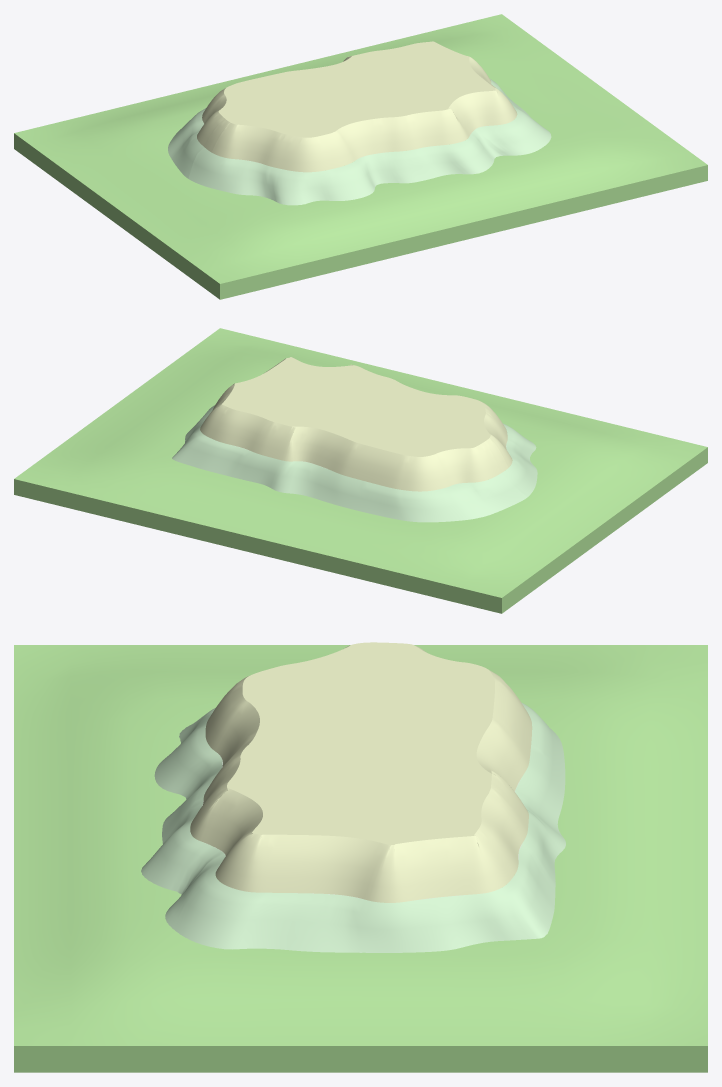
Rendered from tableLand.glb.
3 renders of one model, top to bottom at view 1: azimuth 30°, elevation 25°; view 2: azimuth 150°, elevation 25°; view 3: azimuth 270°, elevation 25°, orthographic. The views are drawn at different scales.
Visible parts, largest first — view 1: 物件_2, 物件_6, 物件_1; view 2: 物件_2, 物件_6, 物件_1; view 3: 物件_2, 物件_6, 物件_1.
Part boxes in pixels (x1=…): 物件_2: x1=14, y1=14, x2=707, y2=299; 物件_6: x1=197, y1=41, x2=517, y2=172; 物件_1: x1=168, y1=79, x2=551, y2=205; 物件_2: x1=14, y1=328, x2=707, y2=613; 物件_6: x1=200, y1=357, x2=512, y2=491; 物件_1: x1=172, y1=405, x2=537, y2=522; 物件_2: x1=14, y1=645, x2=707, y2=1072; 物件_6: x1=190, y1=642, x2=532, y2=902; 物件_1: x1=141, y1=703, x2=565, y2=952.
Bounding box in the file's own units: 0.0489 × 0.00701 × 0.0358.
